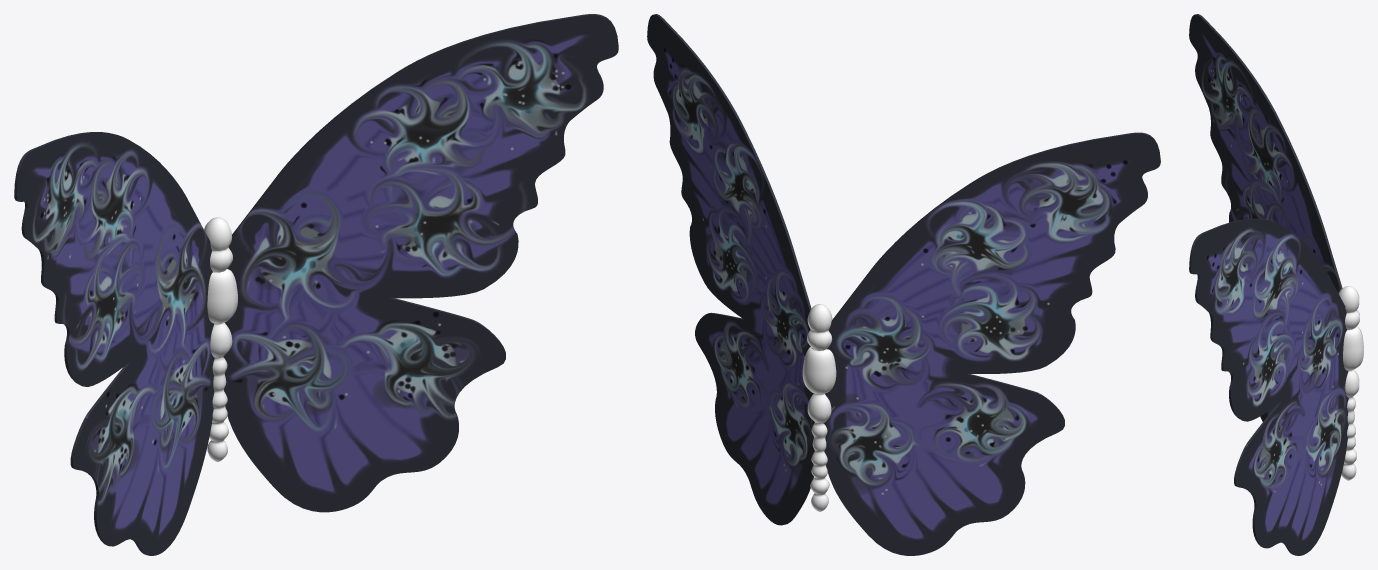
Rendered from butterfly9.gltf.
3 renders of one model, left to right at view 1: azimuth 30°, elevation 25°; view 2: azimuth 150°, elevation 25°; view 3: azimuth 270°, elevation 25°, orthographic. The views are drawn at different scales.
Visible parts, largest first — view 1: butterfly-wing-right.001, butterfly-wing-right, butterfly mesh; view 2: butterfly-wing-right, butterfly-wing-right.001, butterfly mesh; view 3: butterfly-wing-right.001, butterfly-wing-right, butterfly mesh.
Part boxes in pixels (box(x1,y1,x2,y2)): butterfly-wing-right.001: box(223, 14, 618, 512); butterfly-wing-right: box(14, 132, 214, 555); butterfly mesh: box(204, 217, 237, 462); butterfly-wing-right: box(823, 132, 1160, 555); butterfly-wing-right.001: box(647, 14, 814, 525); butterfly mesh: box(802, 304, 836, 511); butterfly-wing-right.001: box(1189, 218, 1348, 555); butterfly-wing-right: box(1189, 14, 1342, 421); butterfly mesh: box(1338, 286, 1363, 480).
Size of the model in its own units: 2.26 by 1.78 by 0.7126.
2 materials, 1 textured.
